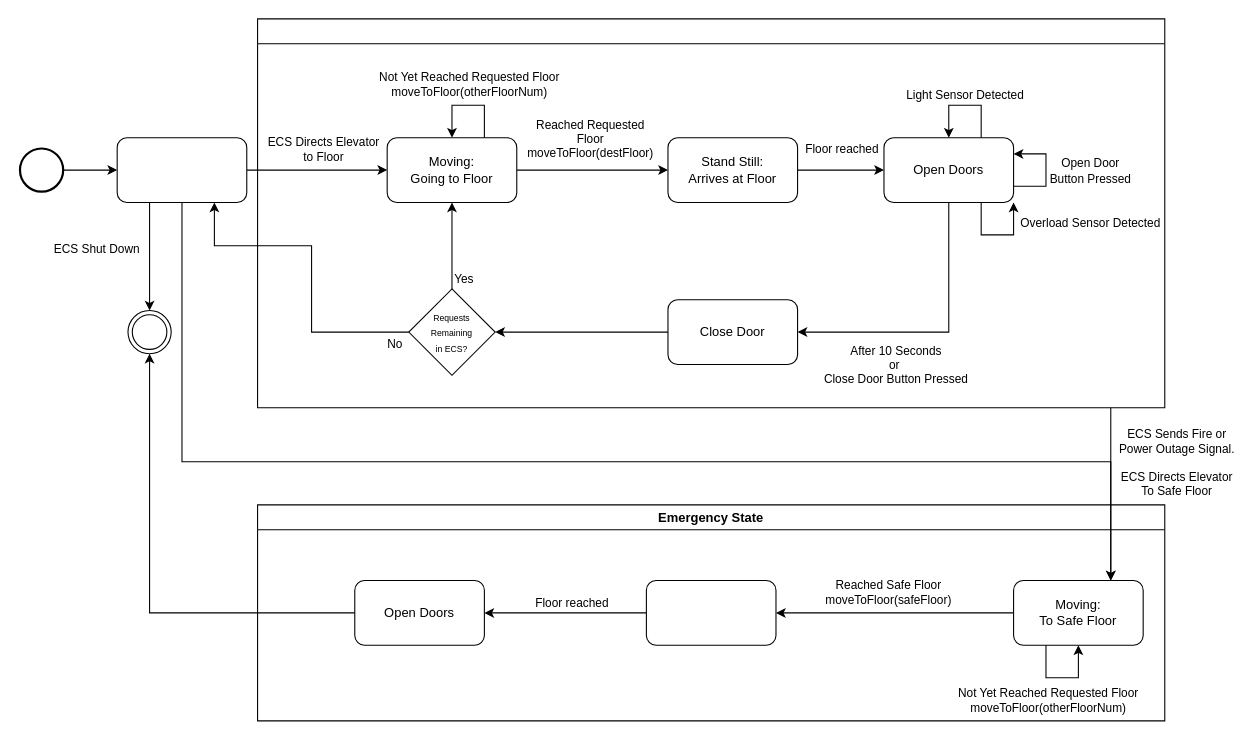
This 1253x740 diagram has some shape labels left out. Each missing label, with the centre of its shape:
"Idle" goes at (x=181, y=169).
"Stand Still: Arrives at Safe Floor" goes at (x=710, y=612).
"Working State" goes at (x=710, y=213).
